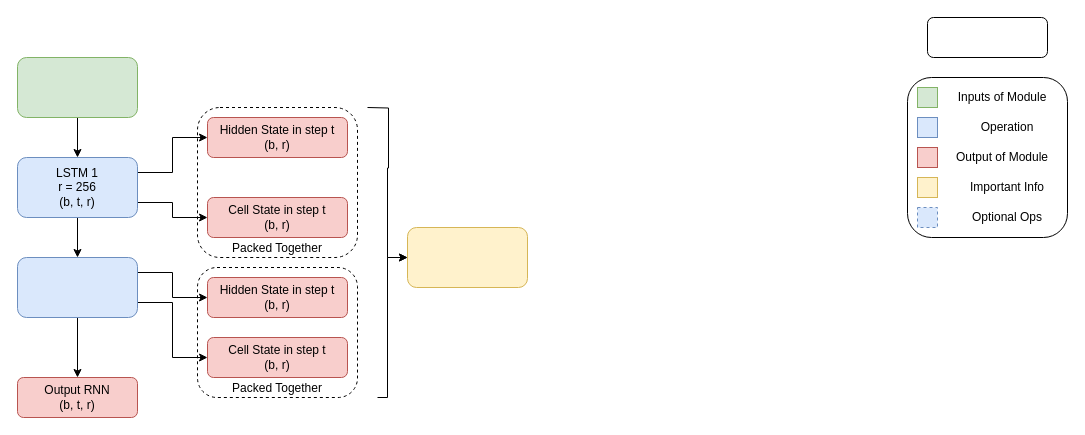
Some shapes in this 1085 by 435 pixel diagram are drawn without their labels. The centre of each missing label's shape, as x and y in pixels:
"Encoder Output States" goes at [467,257].
"LSTM 2 r = 256 (b, t, r)" goes at [77,287].
"Reduce Features (b, t, h*w)" goes at [77,87].
"v 1.0" goes at [987,37].
